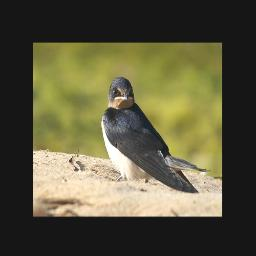Swallow: (100, 77, 211, 193)
